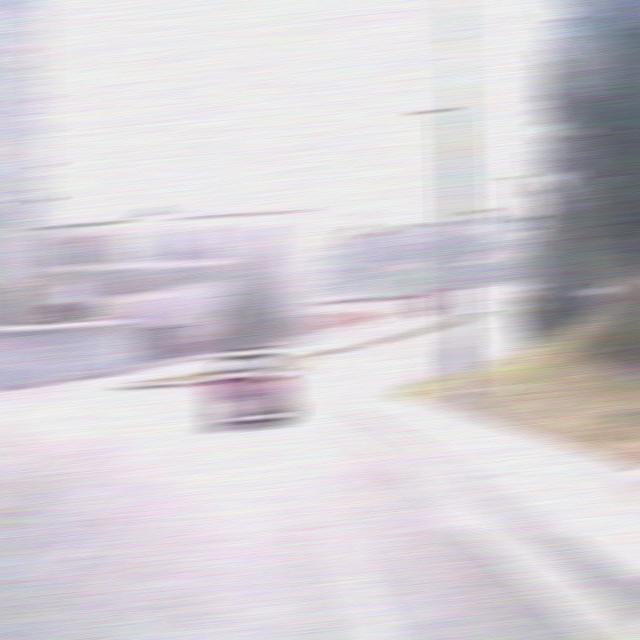stop_sign: (406, 287, 442, 317)
